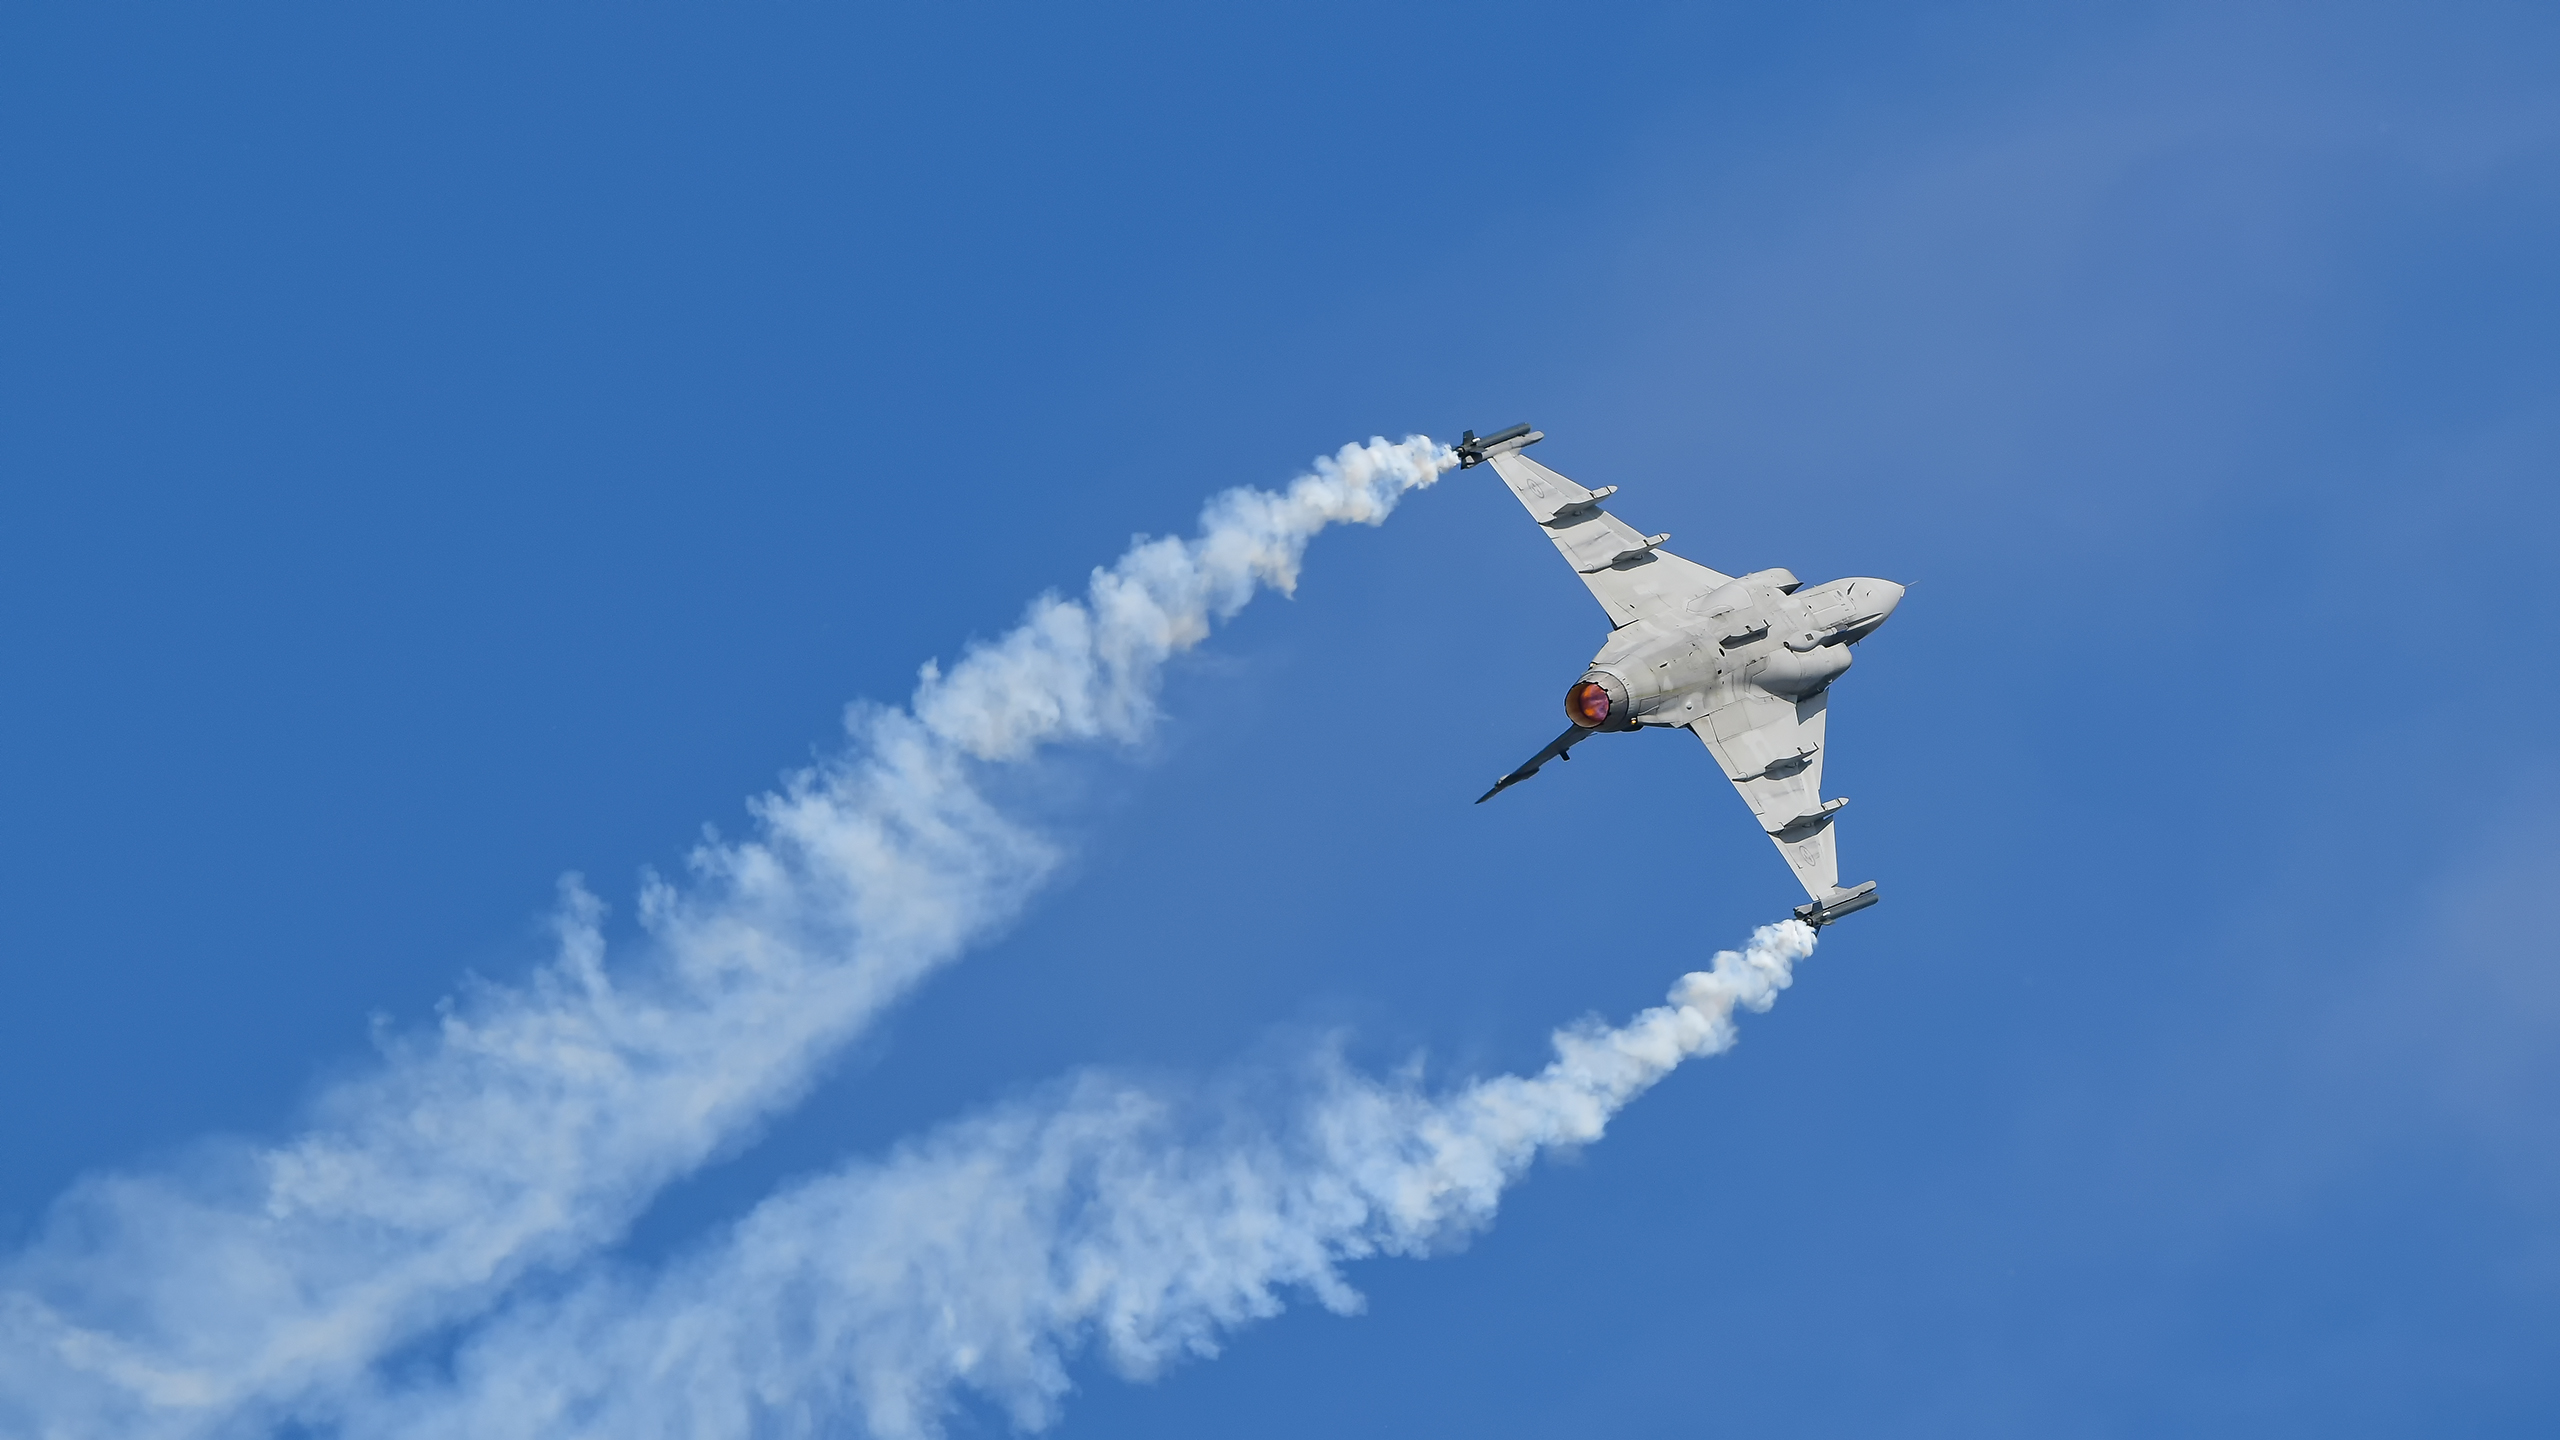JAS39: (1451, 420, 1924, 937)
